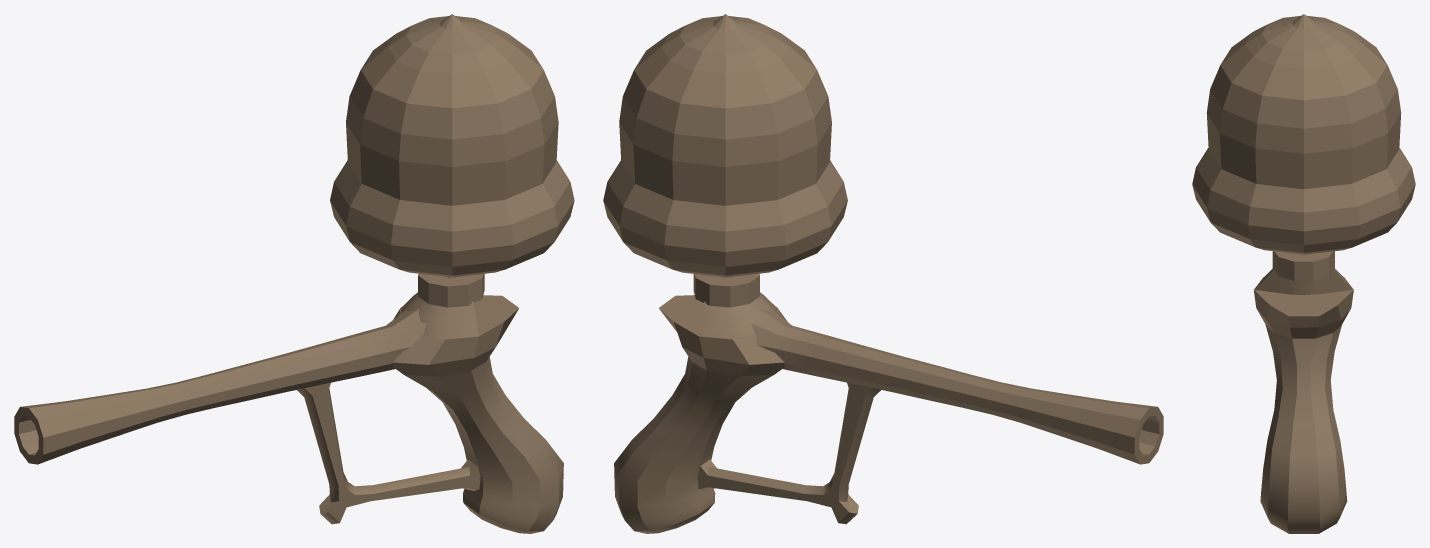
File: Pistola bellota.fbx
3 renders of one model, left to right at view 1: azimuth 30°, elevation 25°; view 2: azimuth 150°, elevation 25°; view 3: azimuth 270°, elevation 25°, orthographic. The views are drawn at different scales.
Visible parts, largest first — view 1: Bellota, Mango, Canion, Defensa, Base, Soporte; view 2: Bellota, Mango, Canion, Defensa, Base, Soporte; view 3: Bellota, Mango, Soporte, Base.
Boxes of the visible parts, <box> form: Bellota: <box>330,14,574,277</box>; Mango: <box>393,295,563,533</box>; Canion: <box>14,309,426,464</box>; Defensa: <box>297,382,480,524</box>; Base: <box>400,292,478,339</box>; Soporte: <box>418,273,484,307</box>; Bellota: <box>603,14,847,277</box>; Mango: <box>614,295,787,533</box>; Canion: <box>751,309,1163,464</box>; Defensa: <box>697,382,880,524</box>; Base: <box>700,292,777,339</box>; Soporte: <box>693,273,759,307</box>; Bellota: <box>1192,14,1415,254</box>; Mango: <box>1253,277,1353,533</box>; Soporte: <box>1272,251,1334,280</box>; Base: <box>1254,268,1352,295</box>.
Size of the model in its own units: 17.99 by 17.2 by 7.2.
